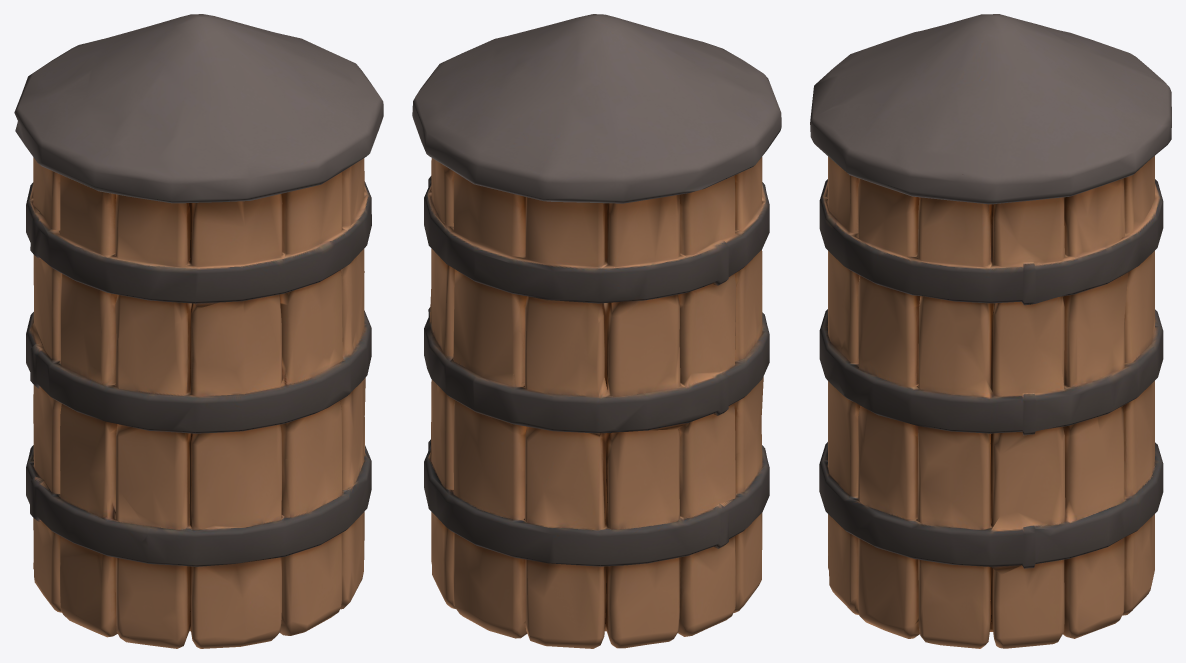
The model's file is barrel.glb.
3 views of the same model, side by side, from view 1: azimuth 30°, elevation 25°; view 2: azimuth 150°, elevation 25°; view 3: azimuth 270°, elevation 25° (orthographic).
Parts seen in each view (by area): view 1: tripo_node_52d80afe-6fb3-4243-89b4-cddf7b416f27; view 2: tripo_node_52d80afe-6fb3-4243-89b4-cddf7b416f27; view 3: tripo_node_52d80afe-6fb3-4243-89b4-cddf7b416f27.
Boxes of the visible parts, x1,y1,x2,y2 form: tripo_node_52d80afe-6fb3-4243-89b4-cddf7b416f27: [14, 14, 383, 648]; tripo_node_52d80afe-6fb3-4243-89b4-cddf7b416f27: [412, 14, 781, 648]; tripo_node_52d80afe-6fb3-4243-89b4-cddf7b416f27: [810, 14, 1171, 648].
Size of the model in its own units: 0.5883 by 1 by 0.5758.
Materials: 1 (1 with a texture image).
